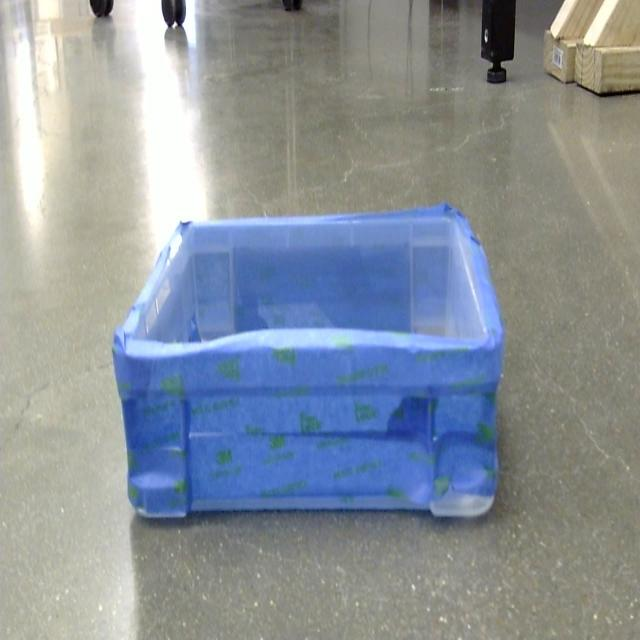bucket: (111, 203, 505, 526)
